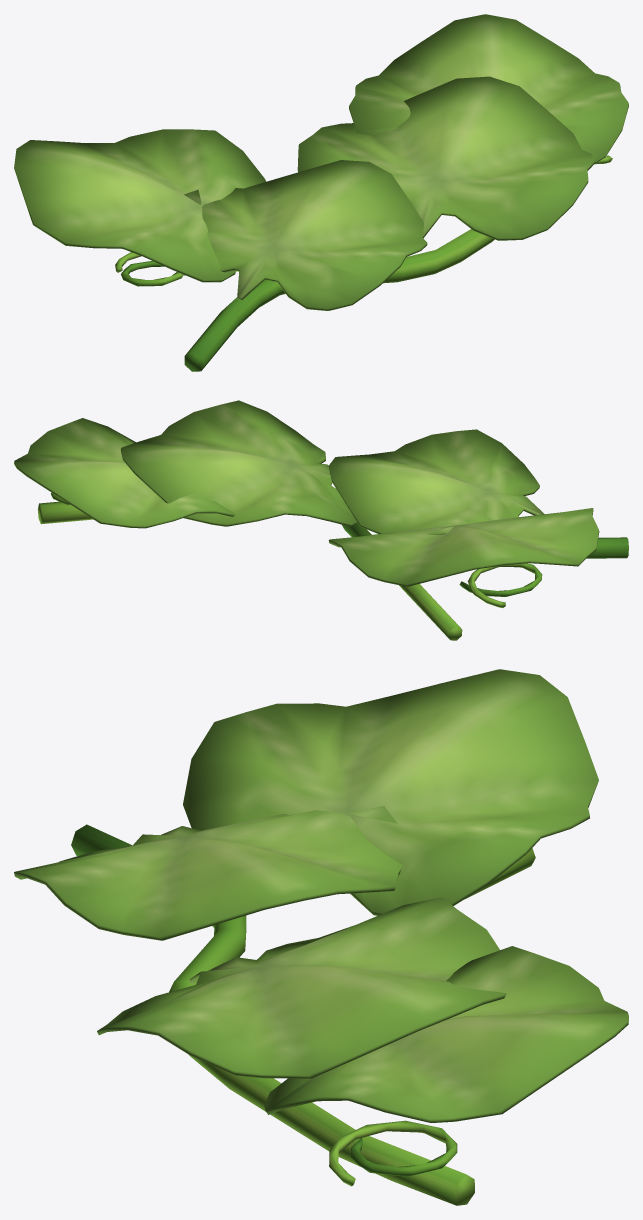
The model's file is NP_Melon_Young_LOD1.fbx.
3 views of the same model, one above another, from view 1: azimuth 30°, elevation 25°; view 2: azimuth 150°, elevation 25°; view 3: azimuth 270°, elevation 25° (orthographic). The views are drawn at different scales.
Visible parts, largest first — view 1: NP_Melon_Young; view 2: NP_Melon_Young; view 3: NP_Melon_Young.
Part boxes in pixels (x1,y1,x2,y2): NP_Melon_Young: [14, 14, 628, 371]; NP_Melon_Young: [14, 400, 628, 640]; NP_Melon_Young: [14, 669, 628, 1205].
Bounding box in the file's own units: 52.31 × 9.7 × 32.67.
